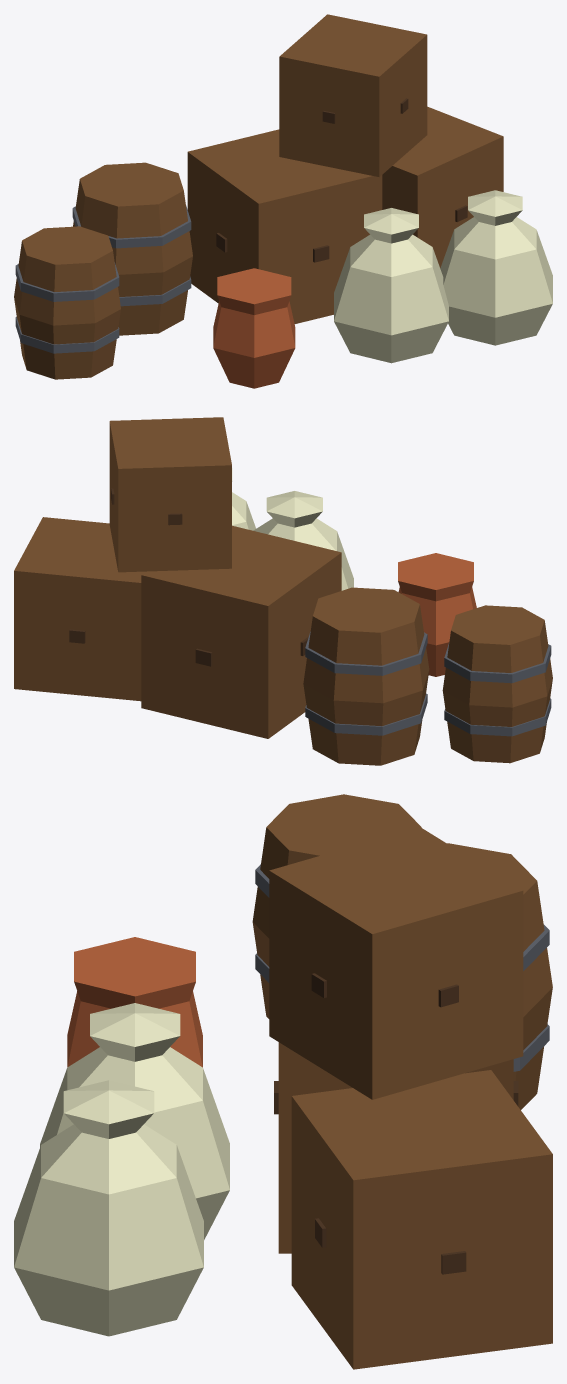
File: crates_barrels_group.fbx
3 views of the same model, one above another, from view 1: azimuth 30°, elevation 25°; view 2: azimuth 150°, elevation 25°; view 3: azimuth 270°, elevation 25° (orthographic). The views are drawn at different scales.
Parts seen in each view (by area): view 1: crates_barrels_group; view 2: crates_barrels_group; view 3: crates_barrels_group.
Part boxes in pixels (x1,y1,x2,y2): crates_barrels_group: (14, 14, 552, 388); crates_barrels_group: (14, 417, 552, 765); crates_barrels_group: (14, 794, 552, 1369).
Bounding box in the file's own units: 3.55 × 1.6 × 2.06.
1 material, 1 textured.
